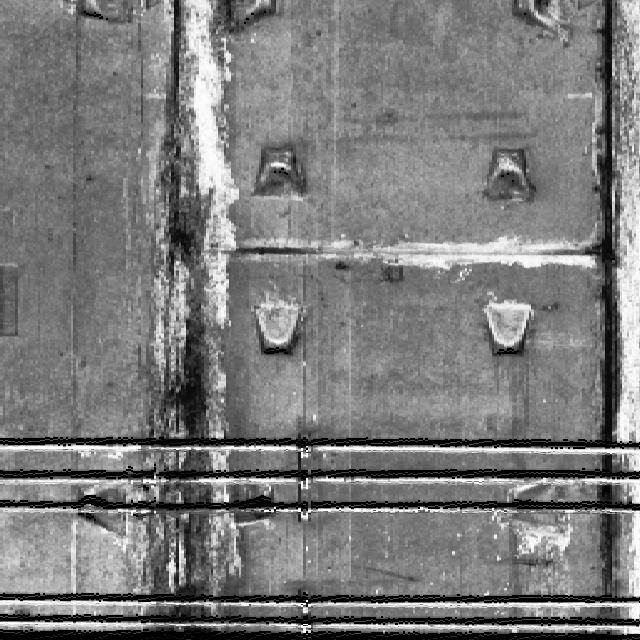leakage: (118, 0, 258, 637), (577, 0, 625, 605)
